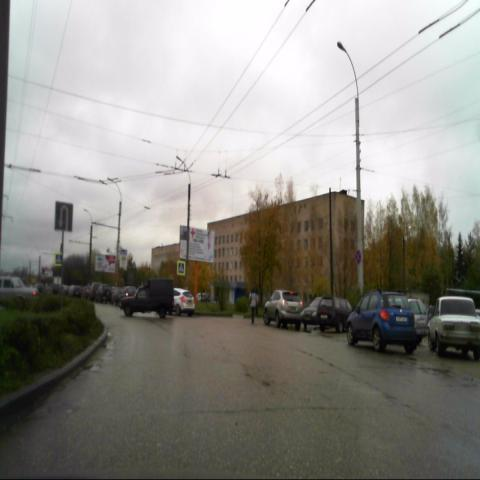6_3_1: (54, 200, 73, 235)
